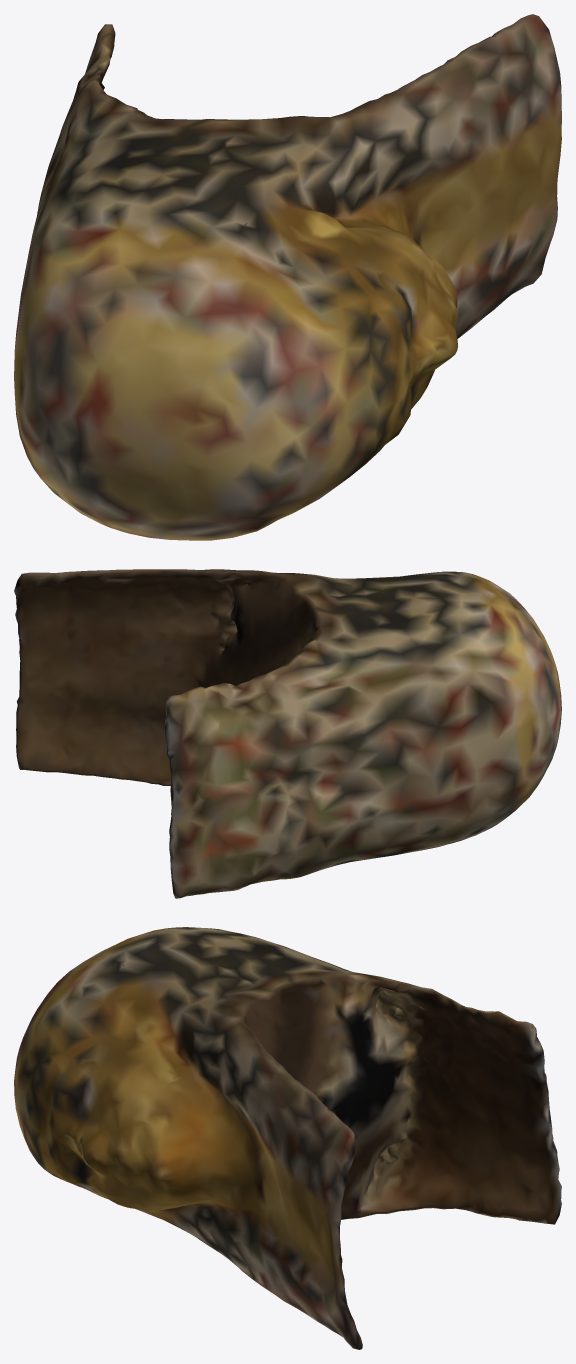
Rendered from M2_T5_Exportacion.obj.
3 renders of one model, top to bottom at view 1: azimuth 30°, elevation 25°; view 2: azimuth 150°, elevation 25°; view 3: azimuth 270°, elevation 25°, orthographic. The views are drawn at different scales.
Bounding box in the file's own units: 9.09 × 4.52 × 8.56.
